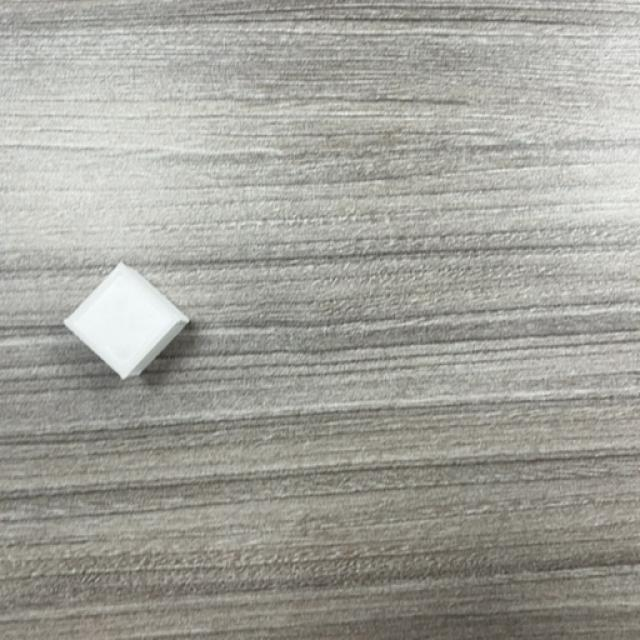Blanco: (62, 264, 190, 381)
